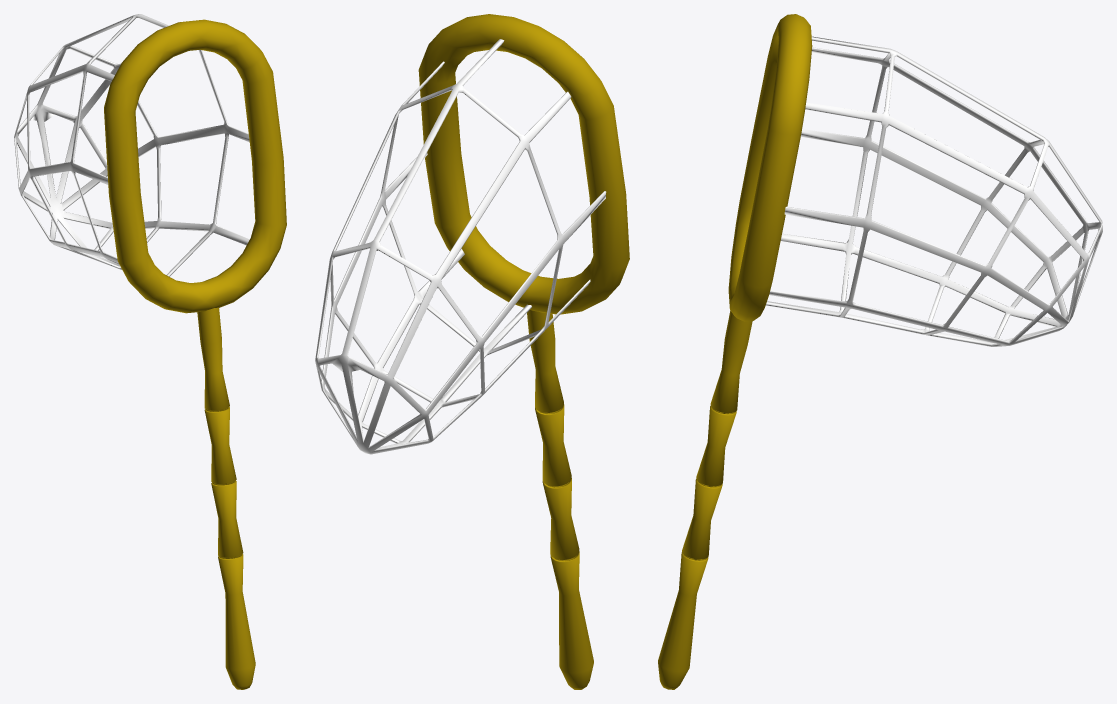
File: JellyFishNet.fbx
3 views of the same model, side by side, from view 1: azimuth 30°, elevation 25°; view 2: azimuth 150°, elevation 25°; view 3: azimuth 270°, elevation 25° (orthographic). The views are drawn at different scales.
Parts seen in each view (by area): view 1: Jelly Fish Net; view 2: Jelly Fish Net; view 3: Jelly Fish Net.
Boxes of the visible parts, box(x1,y1,x2,y2) form: Jelly Fish Net: box(14, 14, 286, 689); Jelly Fish Net: box(315, 14, 629, 689); Jelly Fish Net: box(658, 14, 1102, 689).
Size of the model in its own units: 471 by 1646 by 999.
